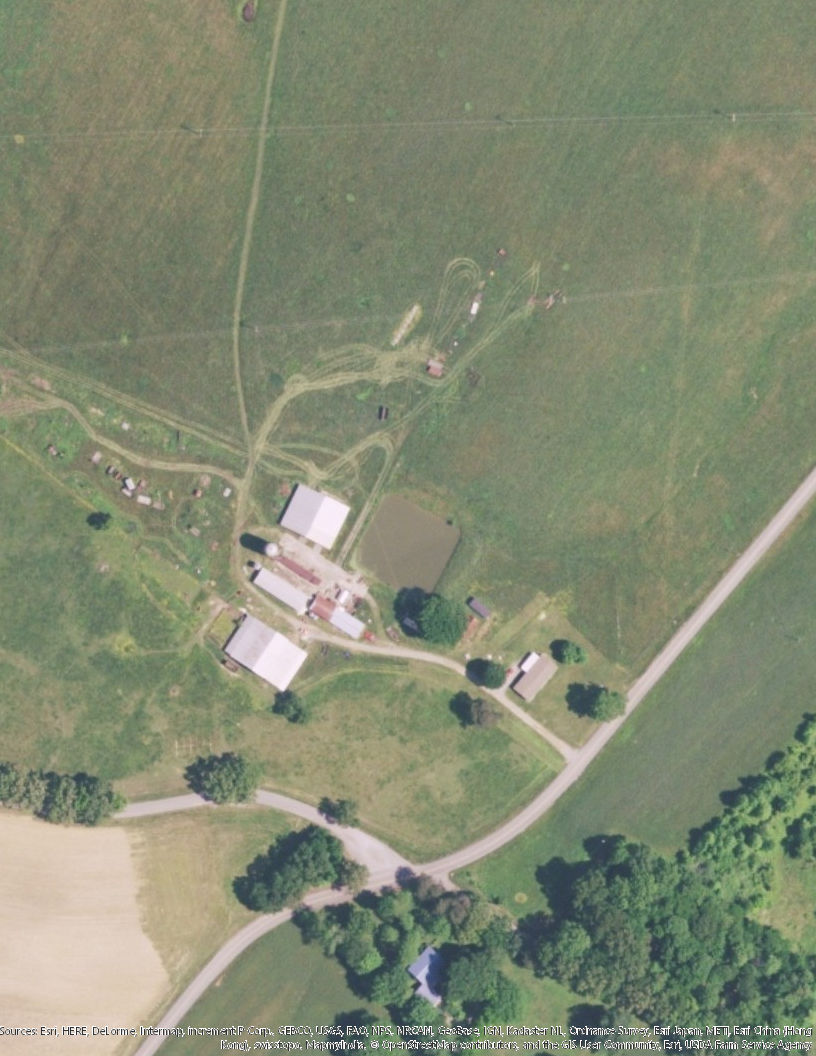cafo: (224, 613, 312, 694), (275, 481, 353, 549), (311, 589, 374, 645), (246, 566, 318, 615)
